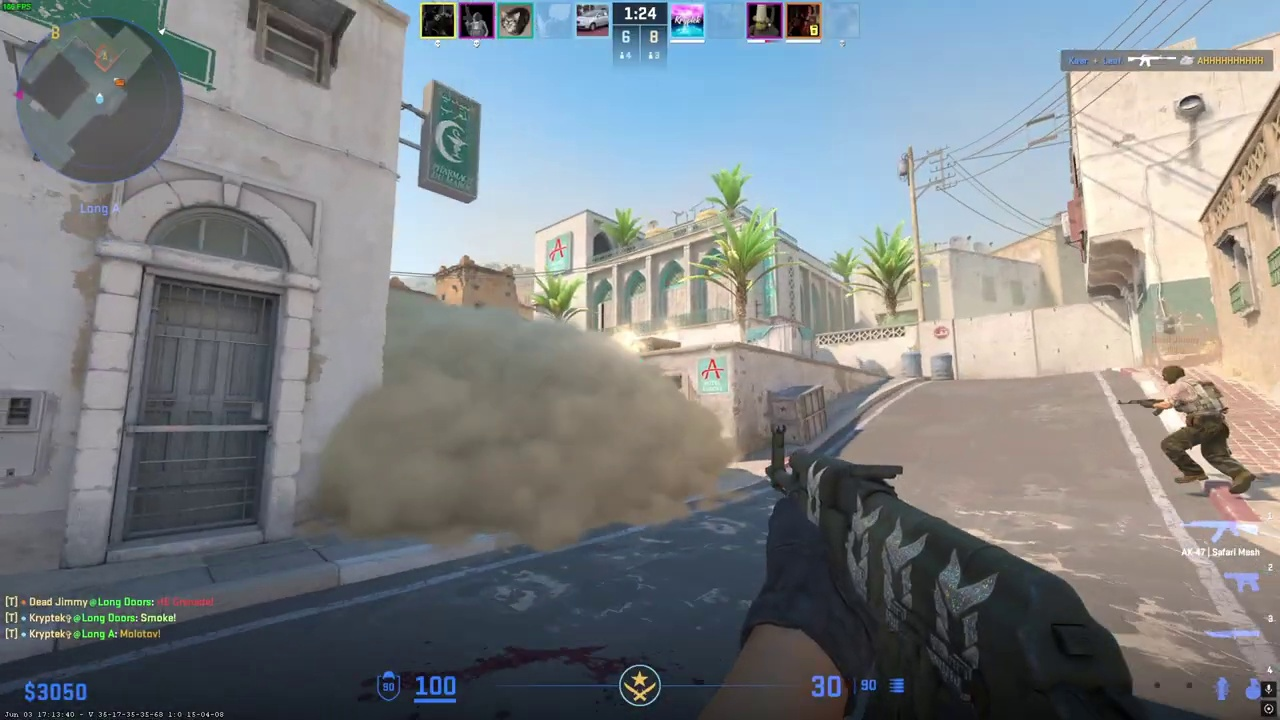Terrorist: (1154, 366, 1247, 493)
